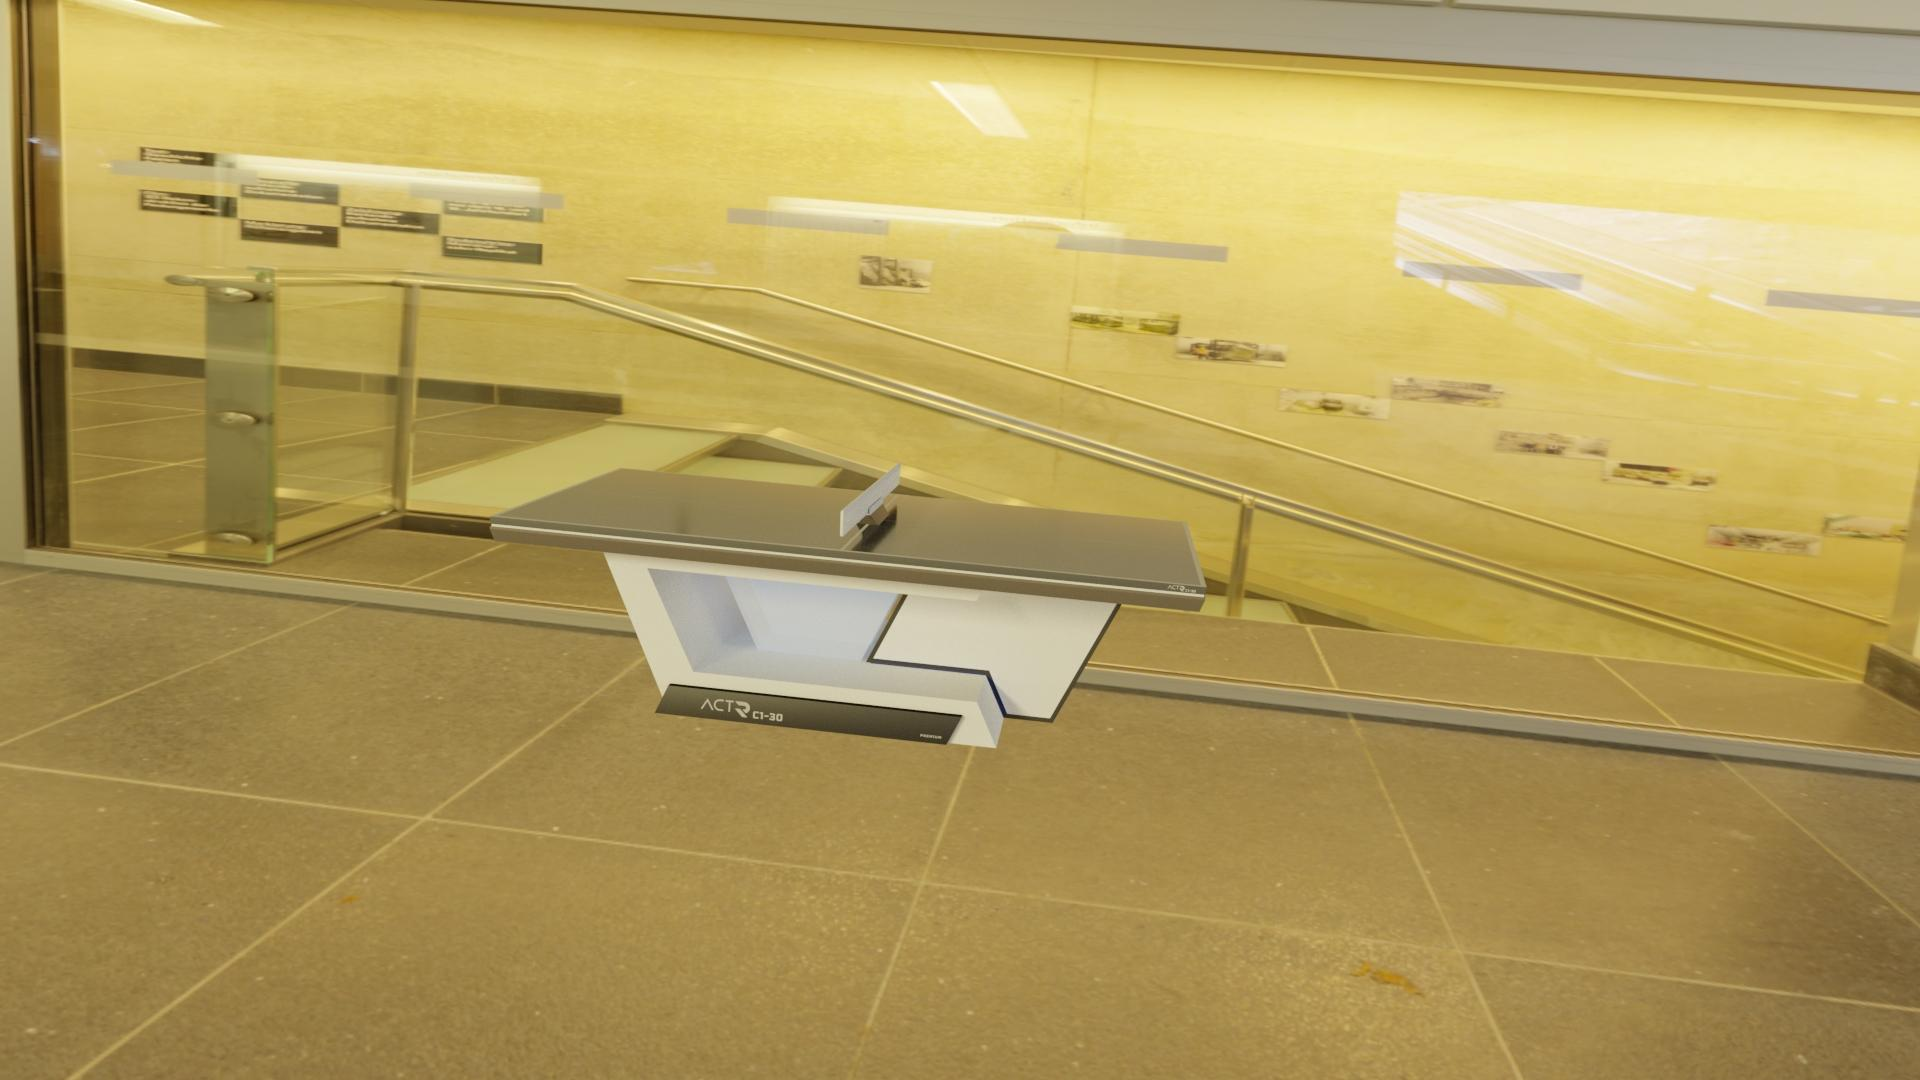table: (497, 468, 1201, 585)
